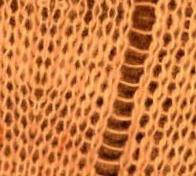slub: (91, 0, 160, 176)
